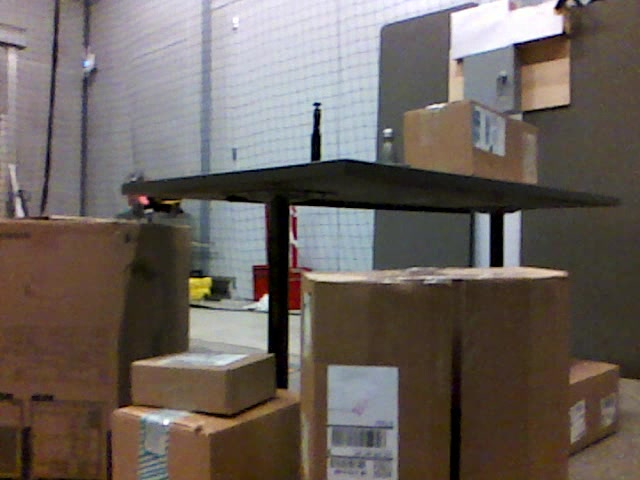box: (302, 267, 569, 480), (1, 216, 190, 480), (113, 404, 298, 480), (404, 100, 540, 182), (132, 350, 277, 413), (569, 359, 620, 457)
